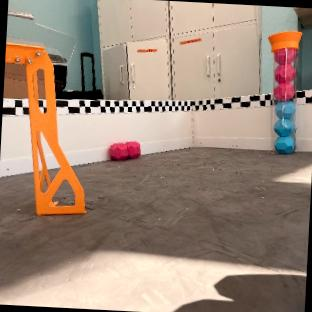V5_BLUE: (273, 101, 295, 153)
V5_RED: (273, 46, 295, 99), (109, 141, 141, 160), (273, 80, 294, 100)
